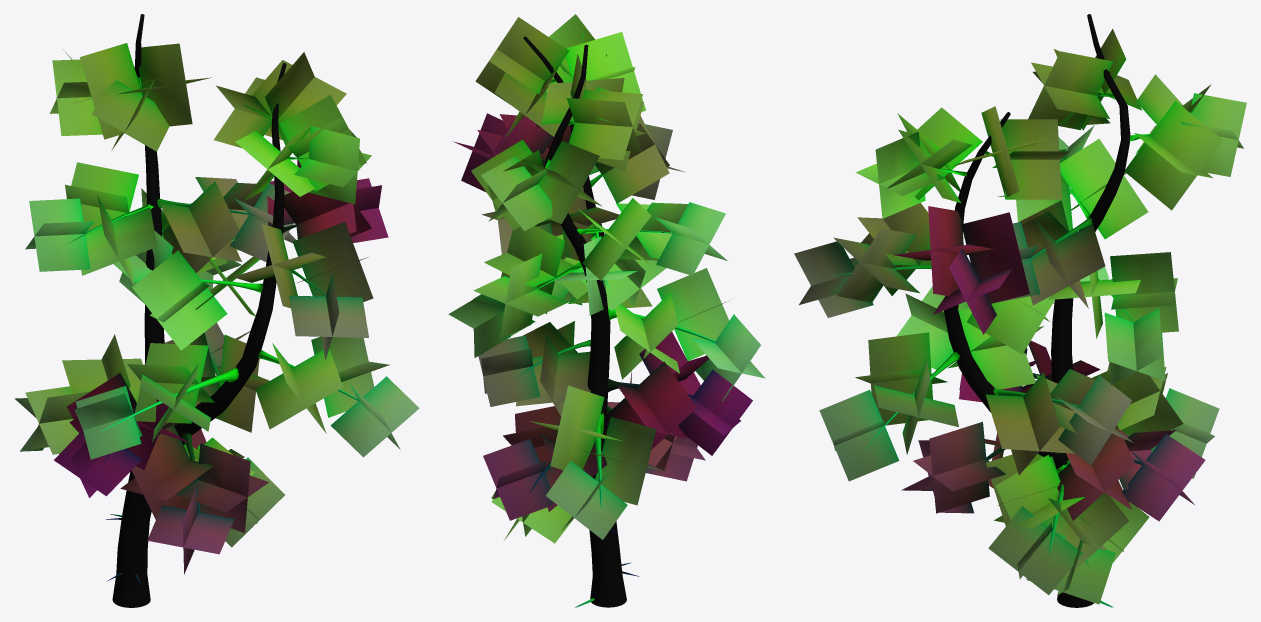
Rendered from URP_P7_Tree_13_LOD_0.fbx.
The picture shows the model from 3 angles, left to right: view 1: azimuth 30°, elevation 25°; view 2: azimuth 150°, elevation 25°; view 3: azimuth 270°, elevation 25°; orthographic projection. The views are drawn at different scales.
Parts seen in each view (by area): view 1: Tree_13_LOD_0; view 2: Tree_13_LOD_0; view 3: Tree_13_LOD_0.
Part boxes in pixels (x1,y1,x2,y2): Tree_13_LOD_0: (15,14,419,607); Tree_13_LOD_0: (448,14,765,607); Tree_13_LOD_0: (794,14,1246,607).
Bounding box in the file's own units: 279 × 499 × 345.
